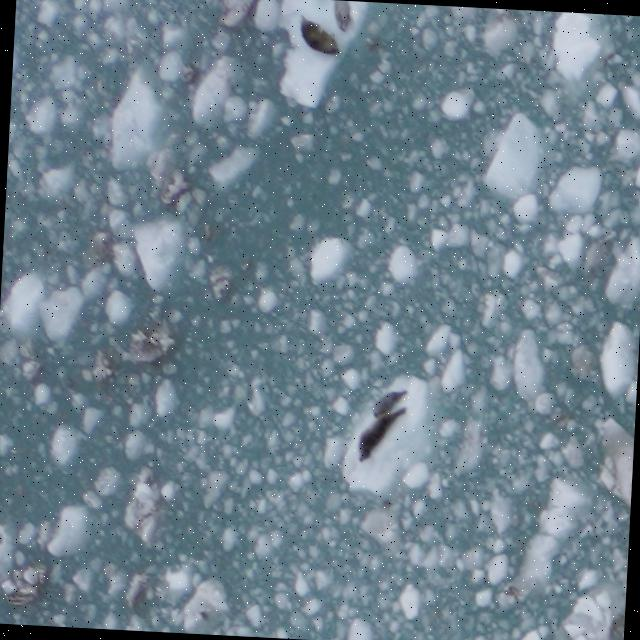seal: (352, 401, 412, 471), (295, 12, 346, 60), (368, 386, 410, 423), (324, 0, 356, 37)
